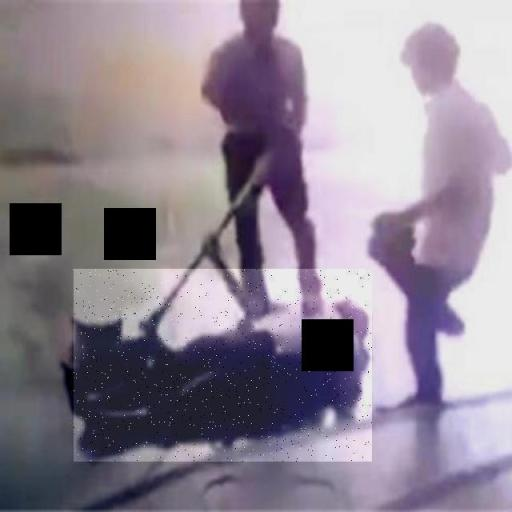Fall: (74, 269, 372, 462)
